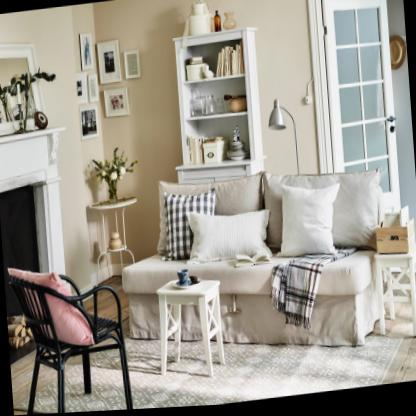Chair: (3, 253, 135, 416)
Sofa: (114, 155, 393, 380)
Table: (152, 270, 230, 389)
